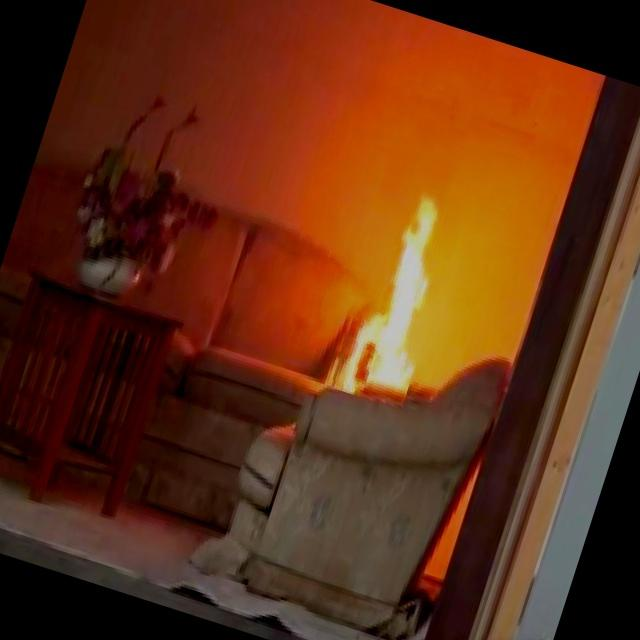fire: (334, 185, 482, 395)
